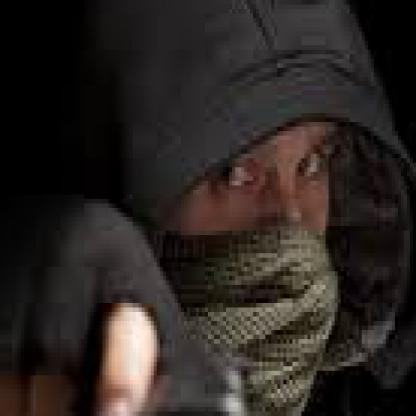gun: (0, 326, 259, 412)
